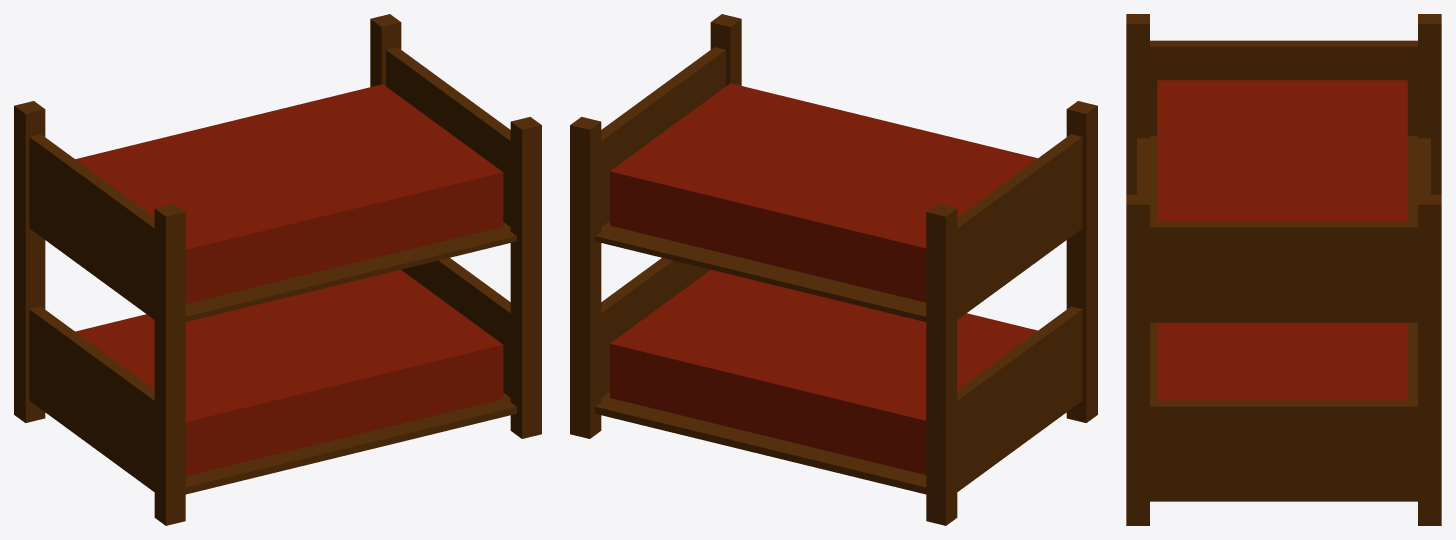
Rendered from bunk-bed.glb.
The picture shows the model from 3 angles, left to right: view 1: azimuth 30°, elevation 25°; view 2: azimuth 150°, elevation 25°; view 3: azimuth 270°, elevation 25°; orthographic projection. The views are drawn at different scales.
Visible parts, largest first — view 1: frame, mattress-top, mattress-bottom; view 2: frame, mattress-top, mattress-bottom; view 3: frame, mattress-top, mattress-bottom.
Part boxes in pixels (left/top/right/bottom): frame: left=14, top=14, right=541, bottom=525; mattress-top: left=75, top=84, right=503, bottom=303; mattress-bottom: left=75, top=270, right=503, bottom=476; frame: left=570, top=14, right=1097, bottom=525; mattress-top: left=610, top=83, right=1037, bottom=302; mattress-bottom: left=610, top=270, right=1037, bottom=474; frame: left=1126, top=14, right=1441, bottom=525; mattress-top: left=1157, top=80, right=1407, bottom=221; mattress-bottom: left=1157, top=322, right=1407, bottom=400.
Size of the model in its own units: 2.28 by 1.79 by 1.6.
